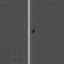dust: (30, 28, 36, 34)
